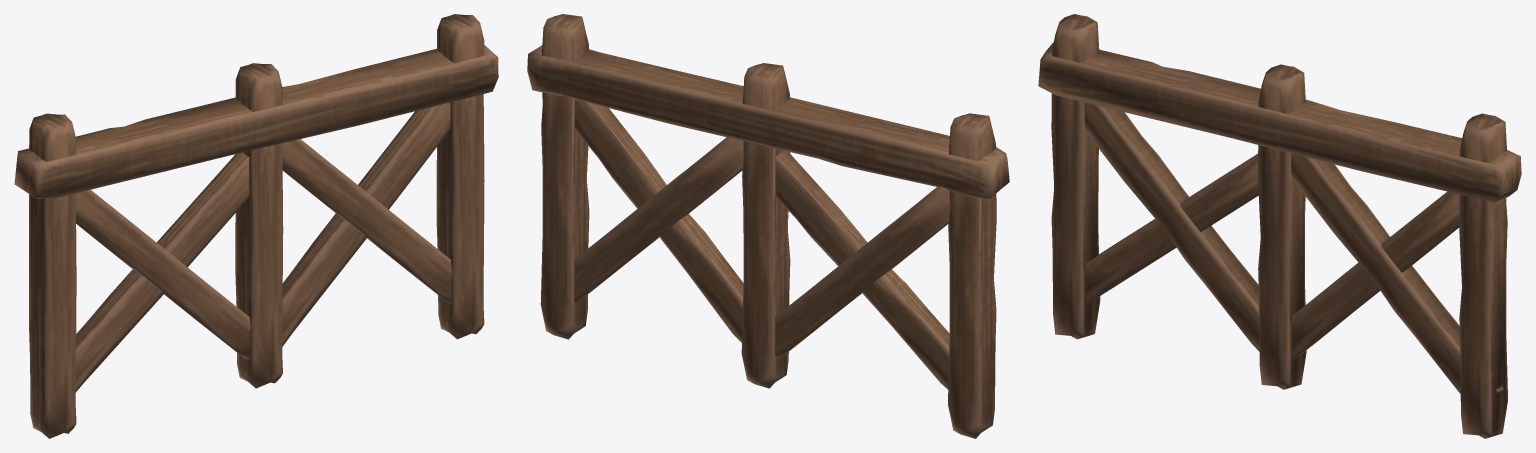
File: SM_fence_small_03.fbx
3 renders of one model, left to right at view 1: azimuth 30°, elevation 25°; view 2: azimuth 150°, elevation 25°; view 3: azimuth 330°, elevation 25°, orthographic.
Parts seen in each view (by area): view 1: fence_small_03; view 2: fence_small_03; view 3: fence_small_03.
Part boxes in pixels (x1=…): fence_small_03: x1=14, y1=14, x2=498, y2=438; fence_small_03: x1=527, y1=14, x2=1009, y2=438; fence_small_03: x1=1038, y1=14, x2=1521, y2=438.
Bounding box in the file's own units: 300 × 191 × 22.97.
